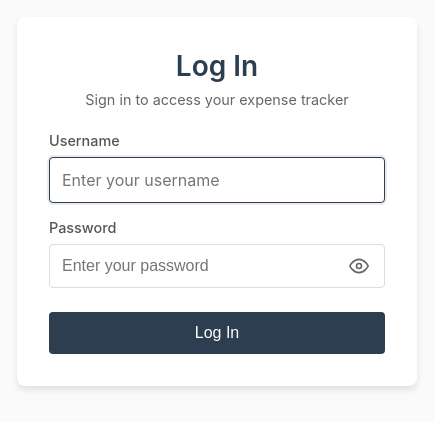
Scenario: LoginPage › Form validation › shows error when submitting with empty username
expect the field labelled "Username" is shown: met, box [49,156,385,202]
Type "password123" into the password field labelled "Password".
click(217, 266); type("password123")  # box [49,244,385,288]
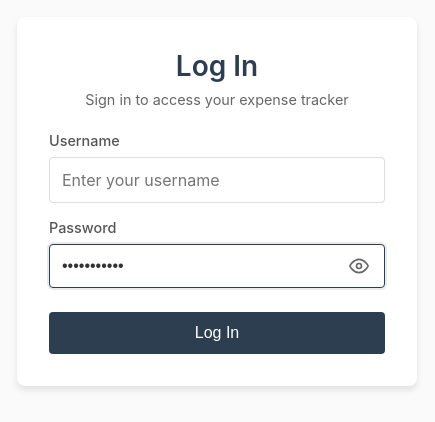
Click the button "Log In".
click(217, 332)  # box [49,312,385,354]
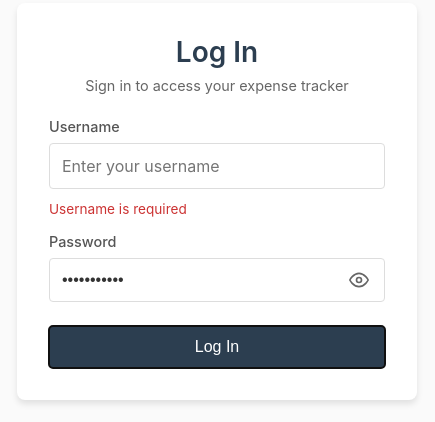
expect the text "Username is required" is shown: met, box [49,200,187,216]
